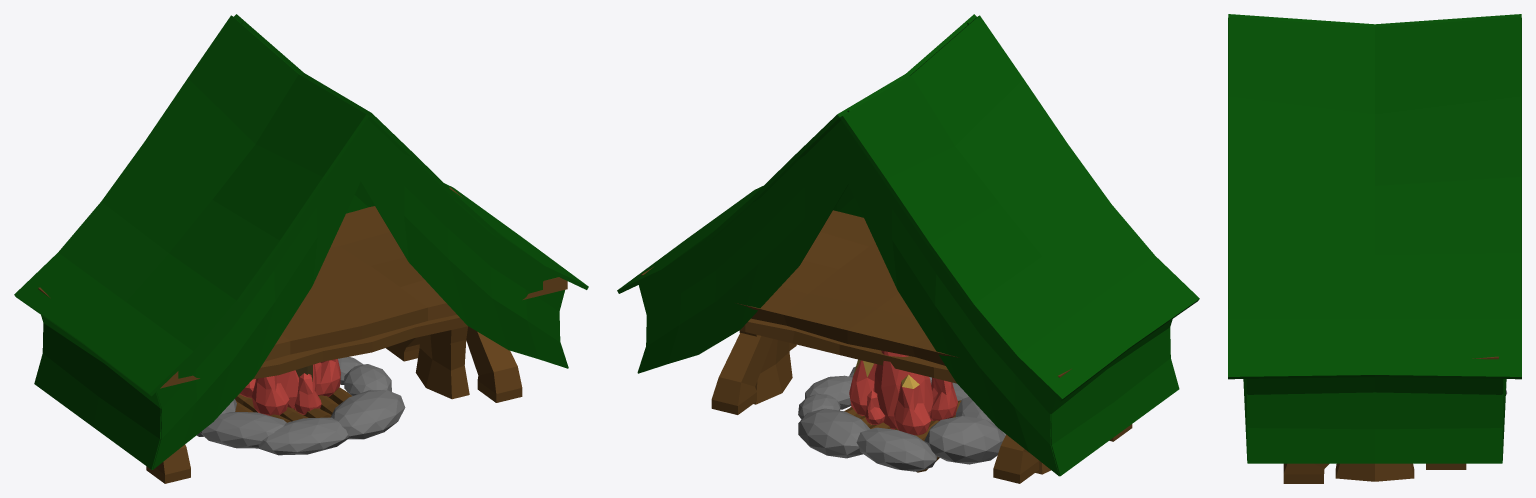
Rendered from Camp_Assets.fbx.
3 views of the same model, side by side, from view 1: azimuth 30°, elevation 25°; view 2: azimuth 150°, elevation 25°; view 3: azimuth 270°, elevation 25° (orthographic). The views are drawn at different scales.
Visible parts, largest first — view 1: Tent, Tent İnside, Table, Firepit, Wooden Bench; view 2: Tent, Tent İnside, Table, Firepit, Wooden Bench; view 3: Tent, Tent İnside, Wooden Bench, Table.
Boxes of the visible parts, x1,y1,x2,y2 form: Tent: (14, 14, 588, 396); Tent İnside: (34, 22, 568, 469); Table: (38, 187, 567, 483); Firepit: (196, 357, 405, 455); Wooden Bench: (253, 315, 469, 399); Tent: (617, 14, 1199, 401); Tent İnside: (637, 22, 1179, 476); Table: (641, 210, 1132, 483); Firepit: (798, 350, 1005, 472); Wooden Bench: (739, 318, 1050, 474); Tent: (1228, 14, 1521, 379); Tent İnside: (1243, 16, 1506, 463); Wooden Bench: (1335, 463, 1414, 481); Table: (1283, 356, 1498, 483).
Size of the model in its own units: 1184 by 924 by 633.
